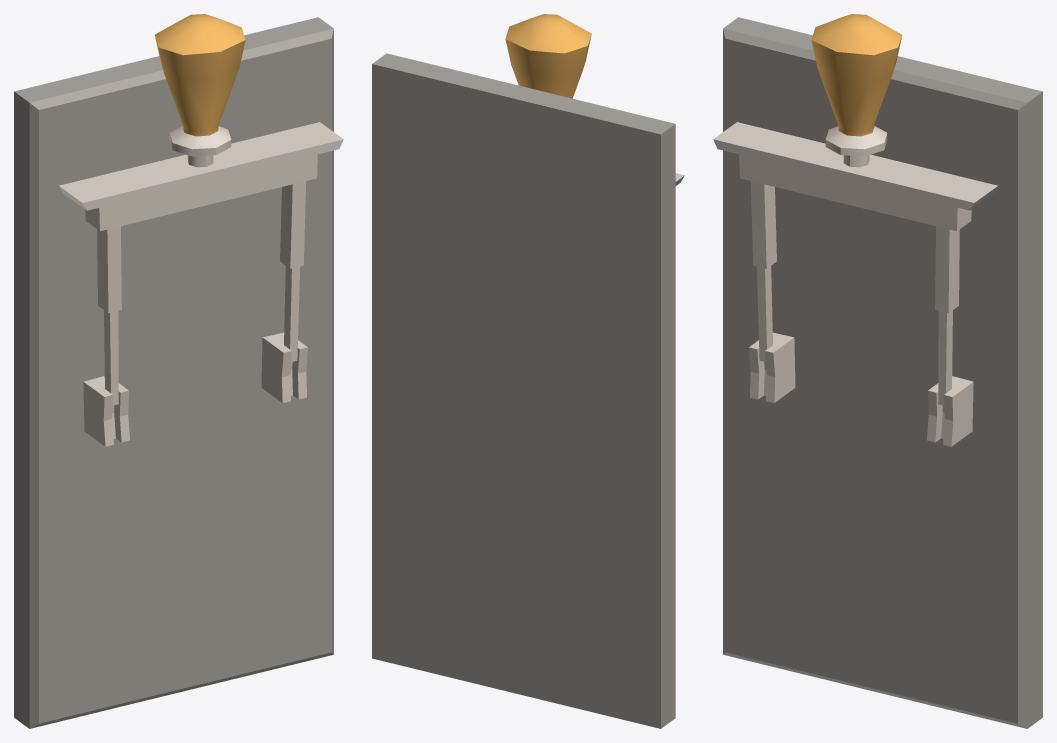
Rendered from Lever_2.FBX.
3 renders of one model, left to right at view 1: azimuth 30°, elevation 25°; view 2: azimuth 150°, elevation 25°; view 3: azimuth 330°, elevation 25°, orthographic. The views are drawn at different scales.
Parts seen in each view (by area): view 1: Lever_Board2, Lever_Switch2; view 2: Lever_Board2, Lever_Switch2; view 3: Lever_Board2, Lever_Switch2.
Boxes of the visible parts, x1,y1,x2,y2 form: Lever_Board2: (14, 17, 333, 728); Lever_Switch2: (59, 14, 343, 405); Lever_Board2: (372, 53, 675, 728); Lever_Switch2: (505, 14, 684, 185); Lever_Board2: (723, 17, 1042, 728); Lever_Switch2: (713, 14, 997, 405).
Bounding box in the file's own units: 13.19 × 28.44 × 4.05.
Materials: 1 (1 with a texture image).
